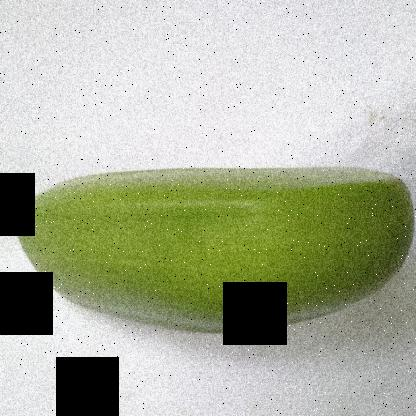freshunripe: (10, 134, 415, 350)
